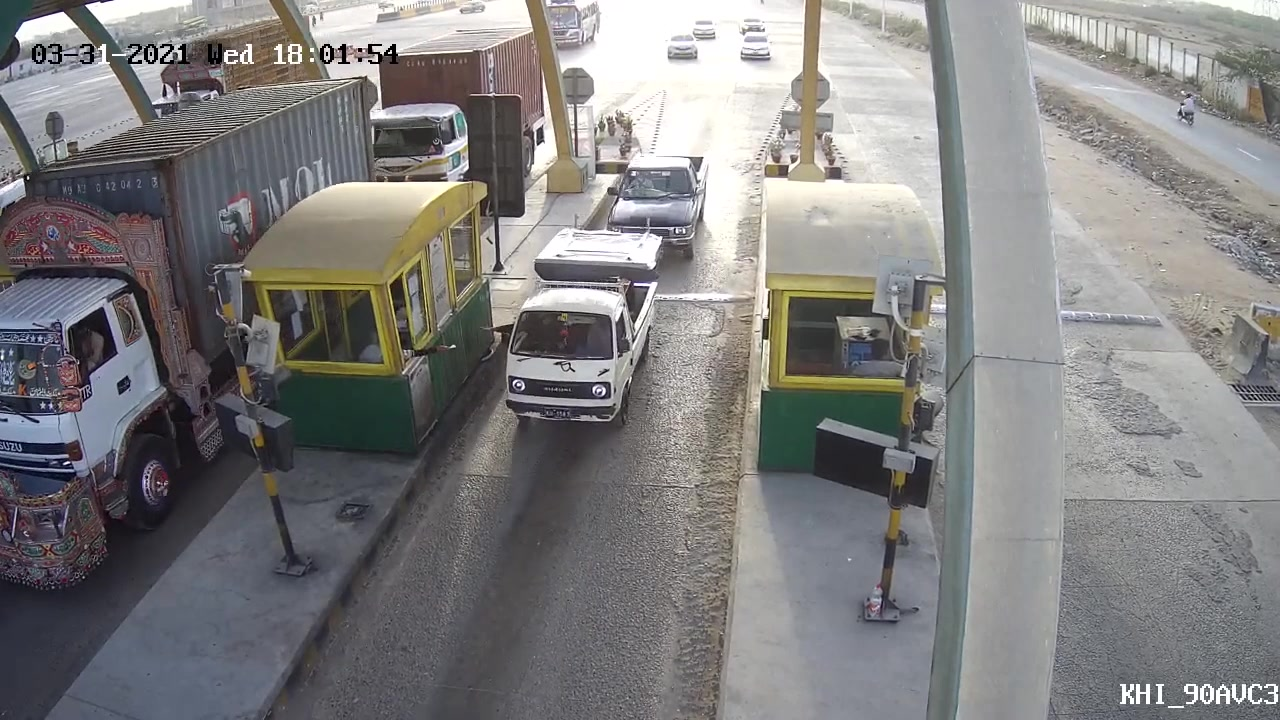F1: (482, 234, 664, 428)
